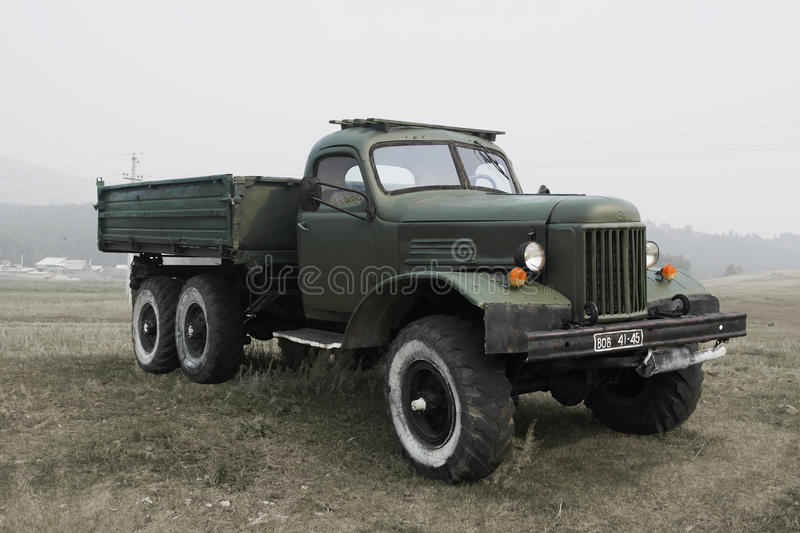camion: (95, 149, 715, 460)
